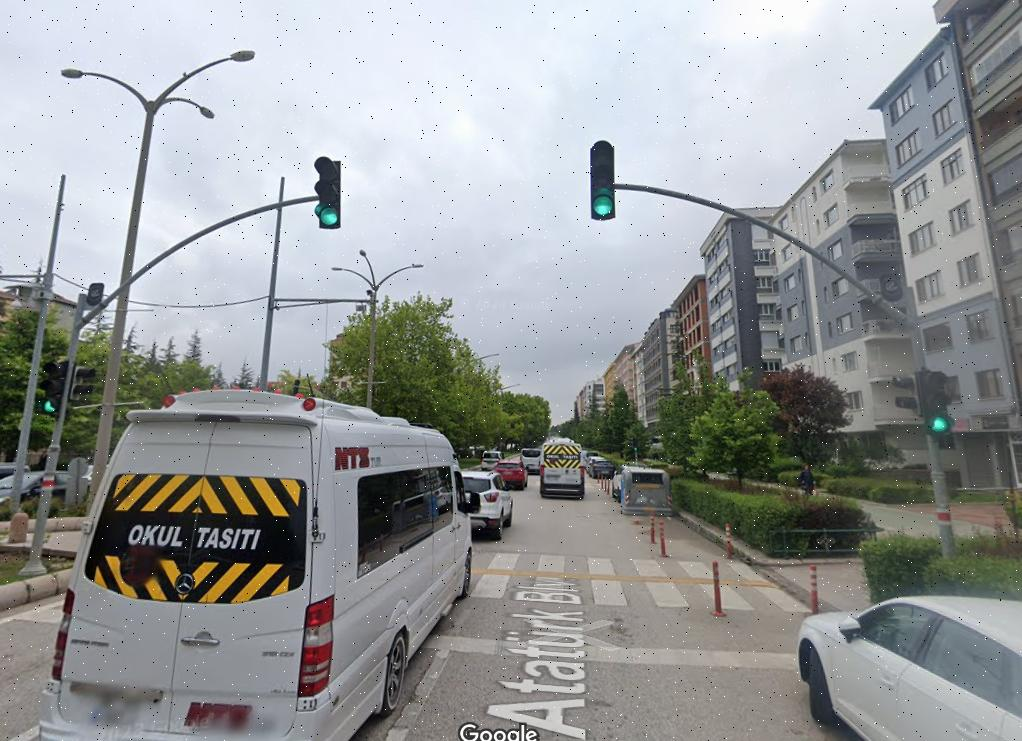greenlight: (583, 137, 624, 229), (914, 363, 961, 439), (310, 154, 350, 232), (35, 358, 70, 422)
